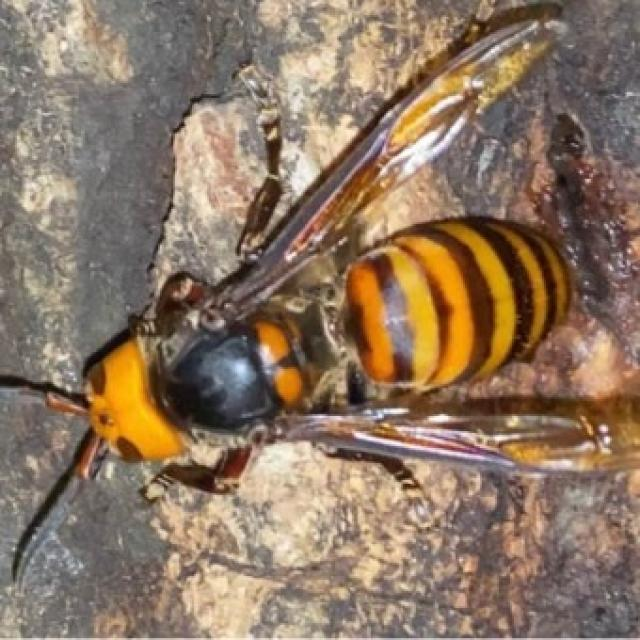Wasp: (8, 10, 638, 548)
